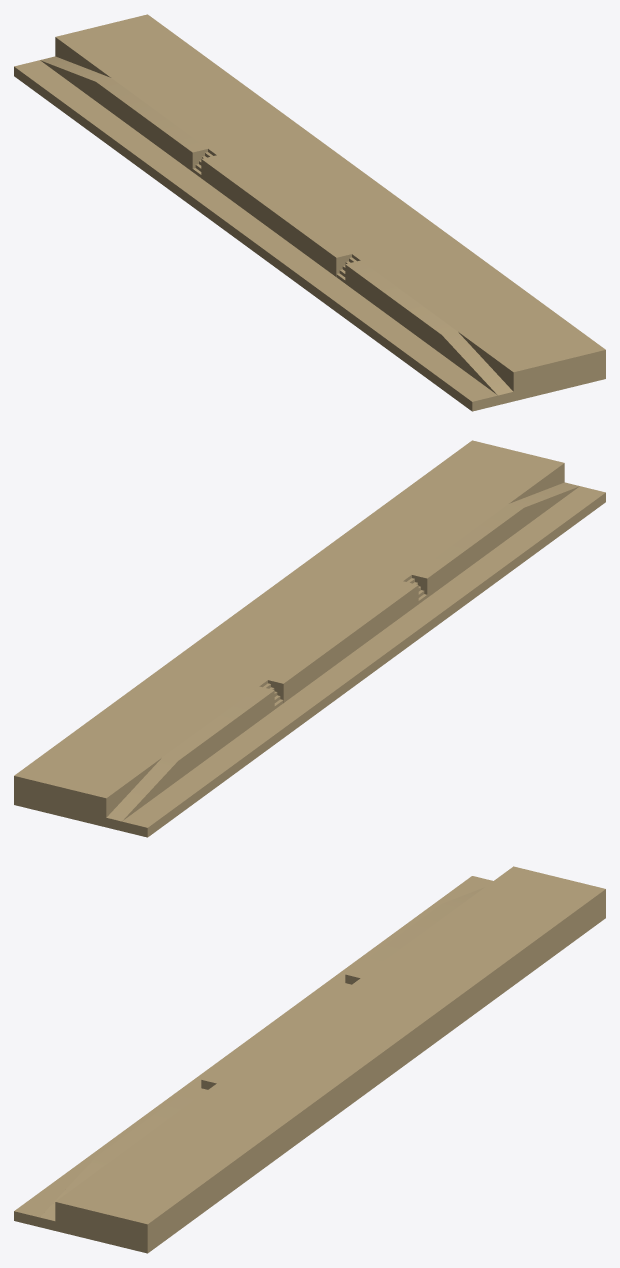
The model's file is Syota tezuka 1.FBX.
The picture shows the model from 3 angles, top to bottom: view 1: azimuth 30°, elevation 25°; view 2: azimuth 150°, elevation 25°; view 3: azimuth 330°, elevation 25°; orthographic projection.
Visible parts, largest first — view 1: Box002; view 2: Box002; view 3: Box002.
Part boxes in pixels (<box>): Box002: <box>14,14,605,411</box>; Box002: <box>14,440,605,837</box>; Box002: <box>14,866,605,1253</box>.
Size of the model in its own units: 129 by 27 by 769.
